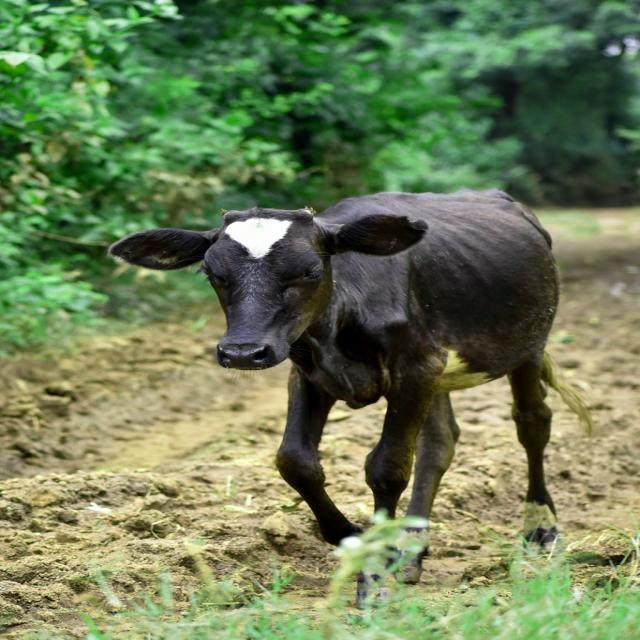cow: (110, 192, 590, 543)
